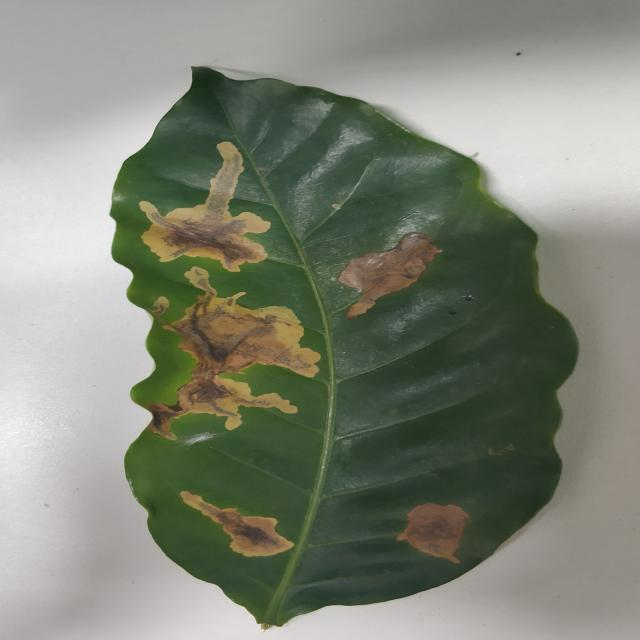Plaga-Minador: (108, 67, 579, 632)
